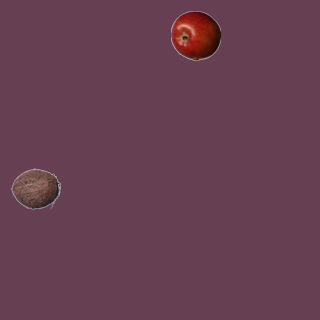Apple Braeburn: (170, 10, 220, 60)
Cocos: (10, 163, 60, 213)
